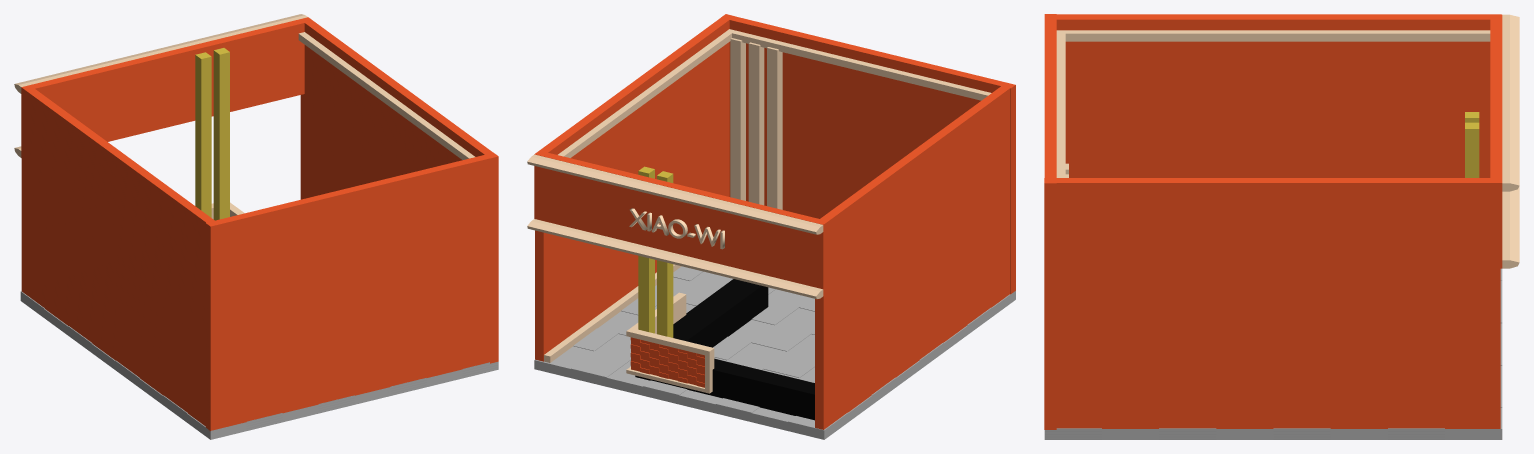
File: Electronic Stall.glb
The picture shows the model from 3 angles, left to right: view 1: azimuth 30°, elevation 25°; view 2: azimuth 150°, elevation 25°; view 3: azimuth 270°, elevation 25°; orthographic projection. The views are drawn at different scales.
Visible parts, largest first — view 1: Cube.183; view 2: Cube.183, Text.001; view 3: Cube.183.
Part boxes in pixels (x1,y1,x2,y2): Cube.183: (14,14,498,439); Cube.183: (527,14,1015,439); Text.001: (629,208,724,249); Cube.183: (1044,14,1519,439).
Size of the model in its own units: 52.57 by 37.22 by 62.41.
